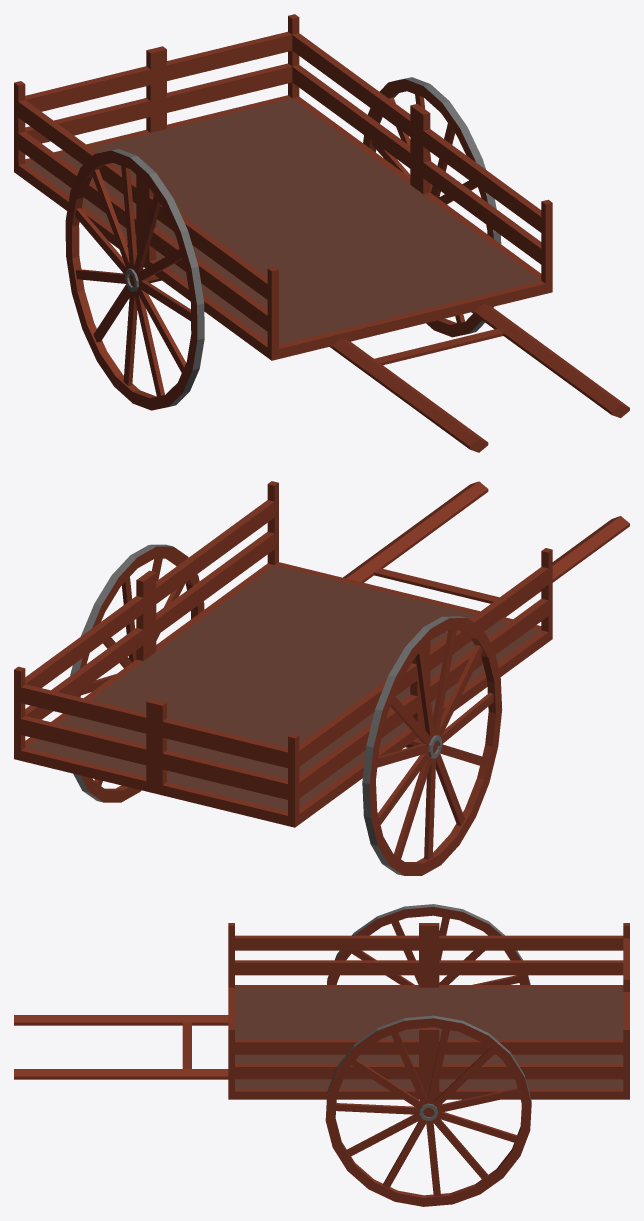
File: Farmi_HeinäKärry.fbx
3 views of the same model, one above another, from view 1: azimuth 30°, elevation 25°; view 2: azimuth 150°, elevation 25°; view 3: azimuth 270°, elevation 25° (orthographic). The views are drawn at different scales.
Parts seen in each view (by area): view 1: Cube; view 2: Cube; view 3: Cube.
Boxes of the visible parts, <box> form: Cube: <box>14,14,629,452</box>; Cube: <box>14,481,629,875</box>; Cube: <box>14,904,629,1206</box>.
Bounding box in the file's own units: 147 × 110 × 327.
